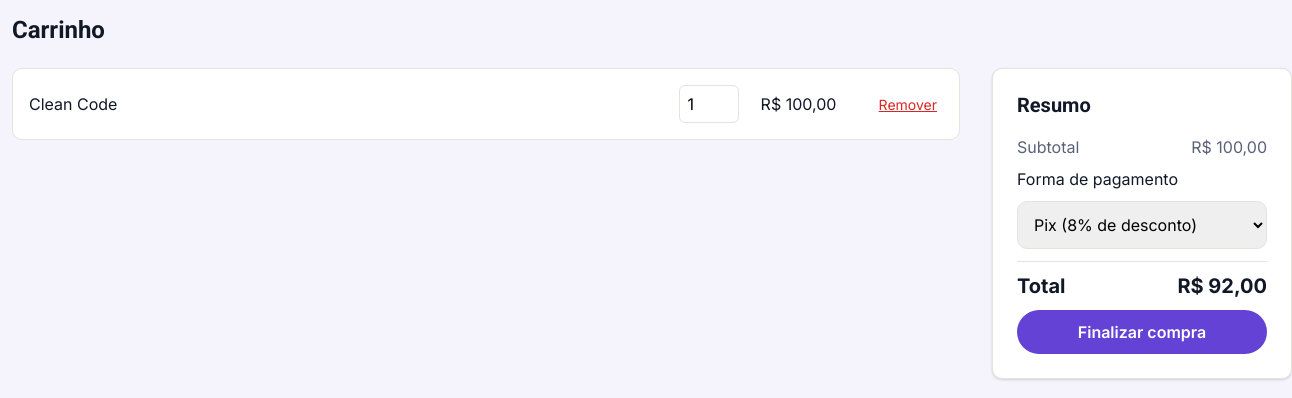
Test: Cart › cria a venda como pendente, mostra "Processando pagamento..." e depois o resultado aprovado com o valor pago
Click the button "Finalizar compra" at [1142, 332], box [1017,310,1267,354]
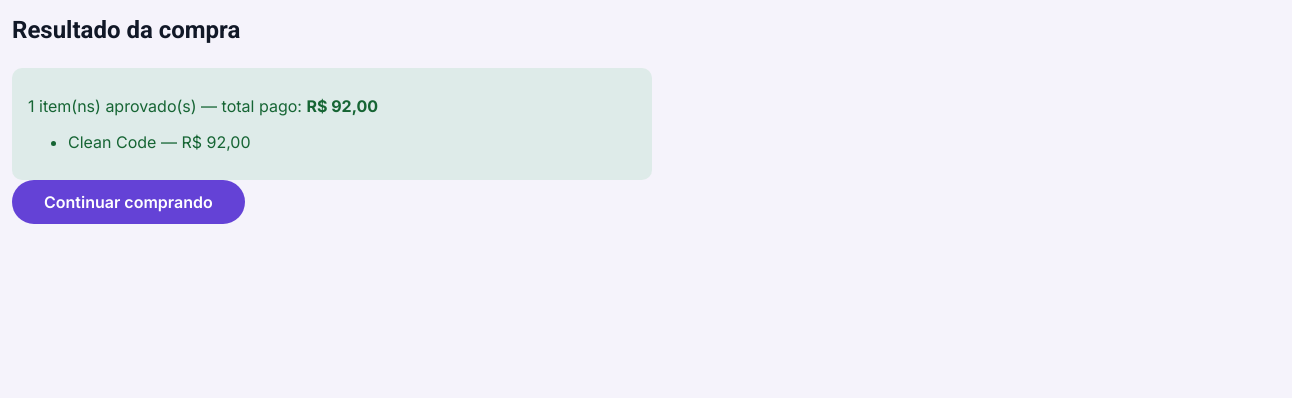
Expected: the heading "Processando pagamento..." is shown, [12,16,240,44]
Result: the text "1 item(ns) aprovado(s) — total pago: R$ 92,00" is shown at [28,96,378,116]
Result: the list item "Clean Code — R$ 92,00" is shown at [68,132,250,152]
